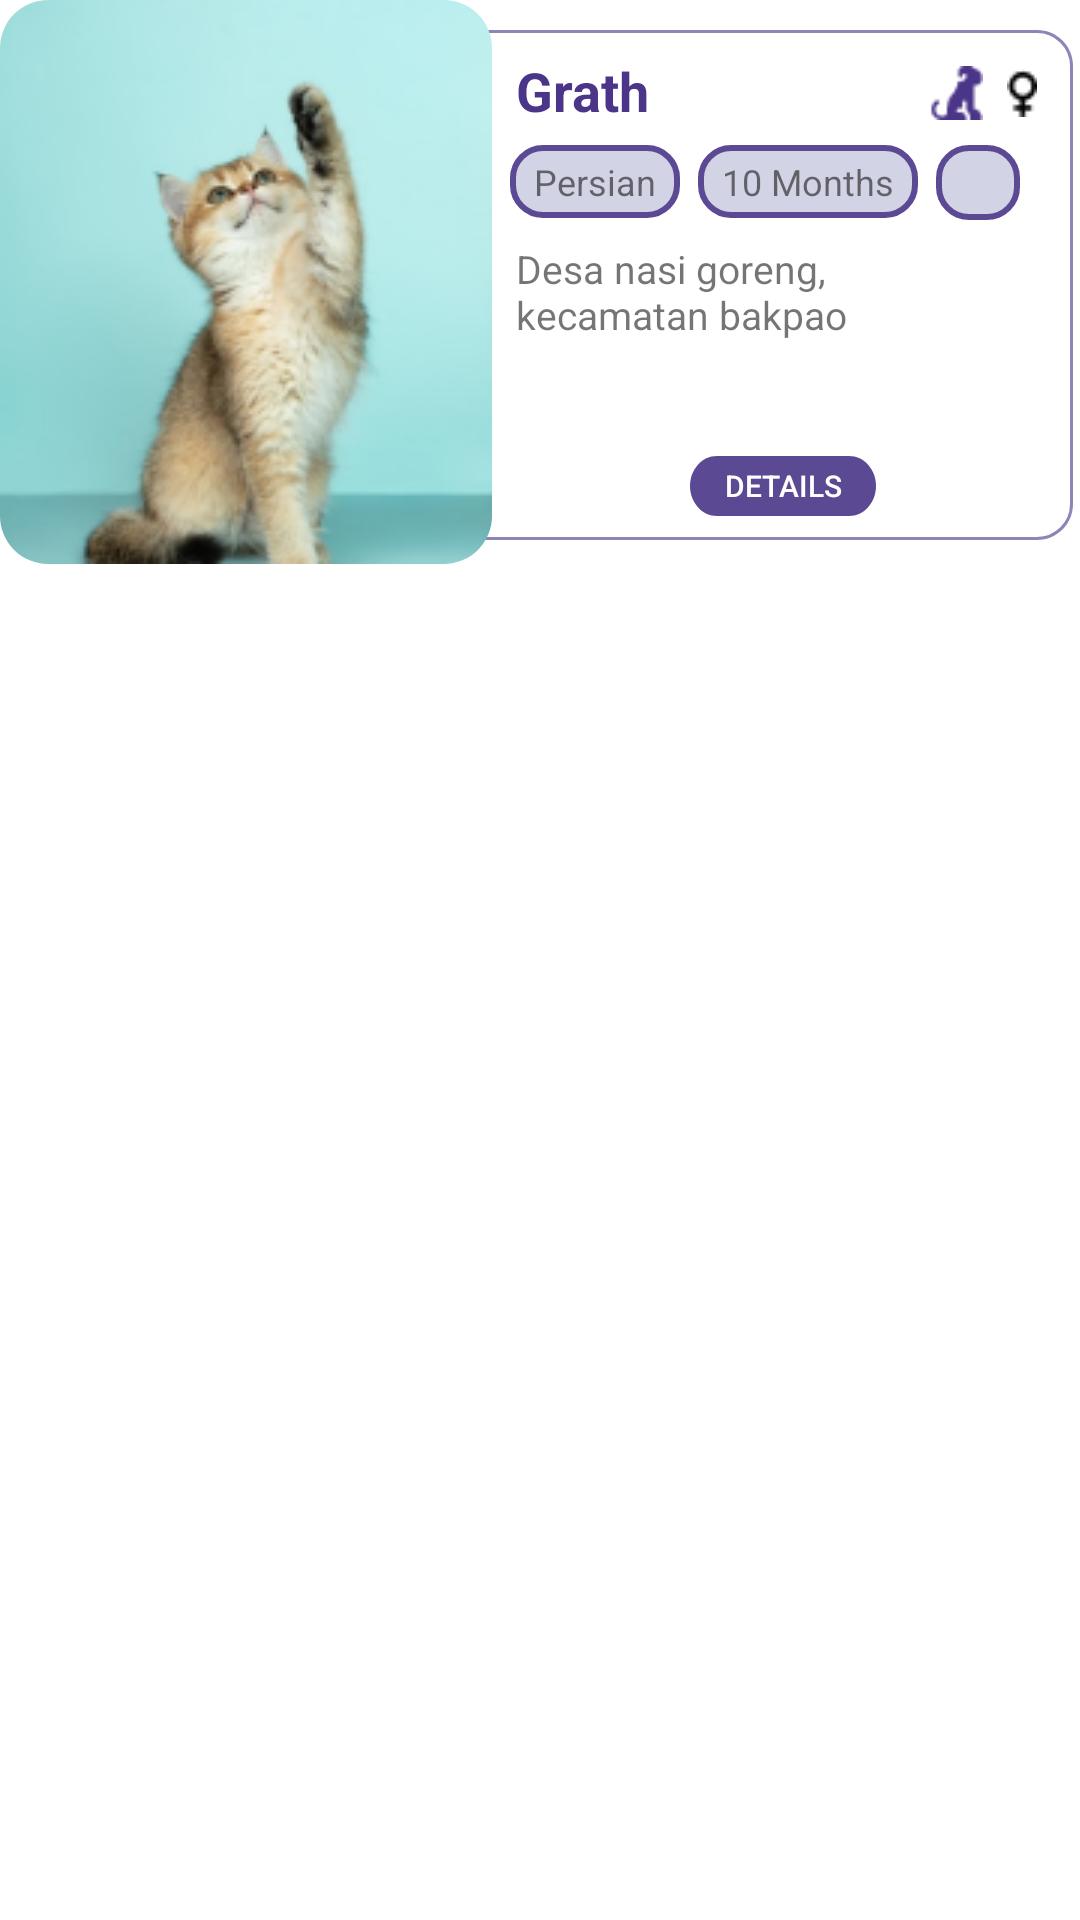

Icons on this 1080px×1920px Android screen, each with the point to tap as (x,y):
female: (1022,94)
